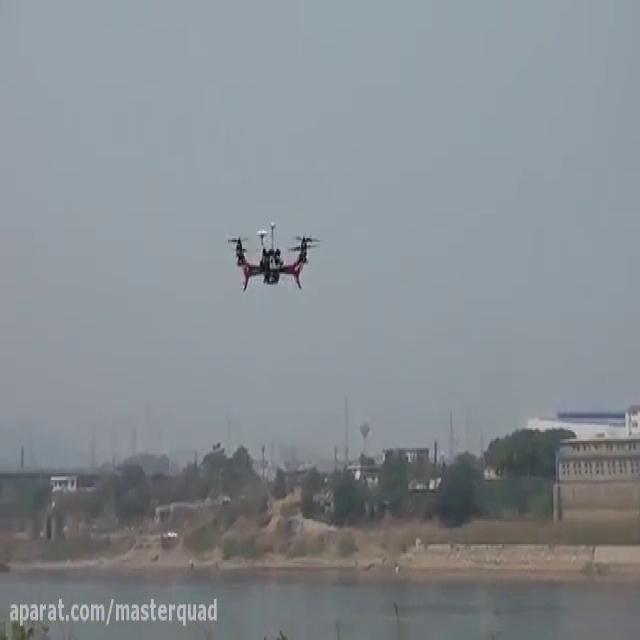drone: (222, 215, 324, 297)
